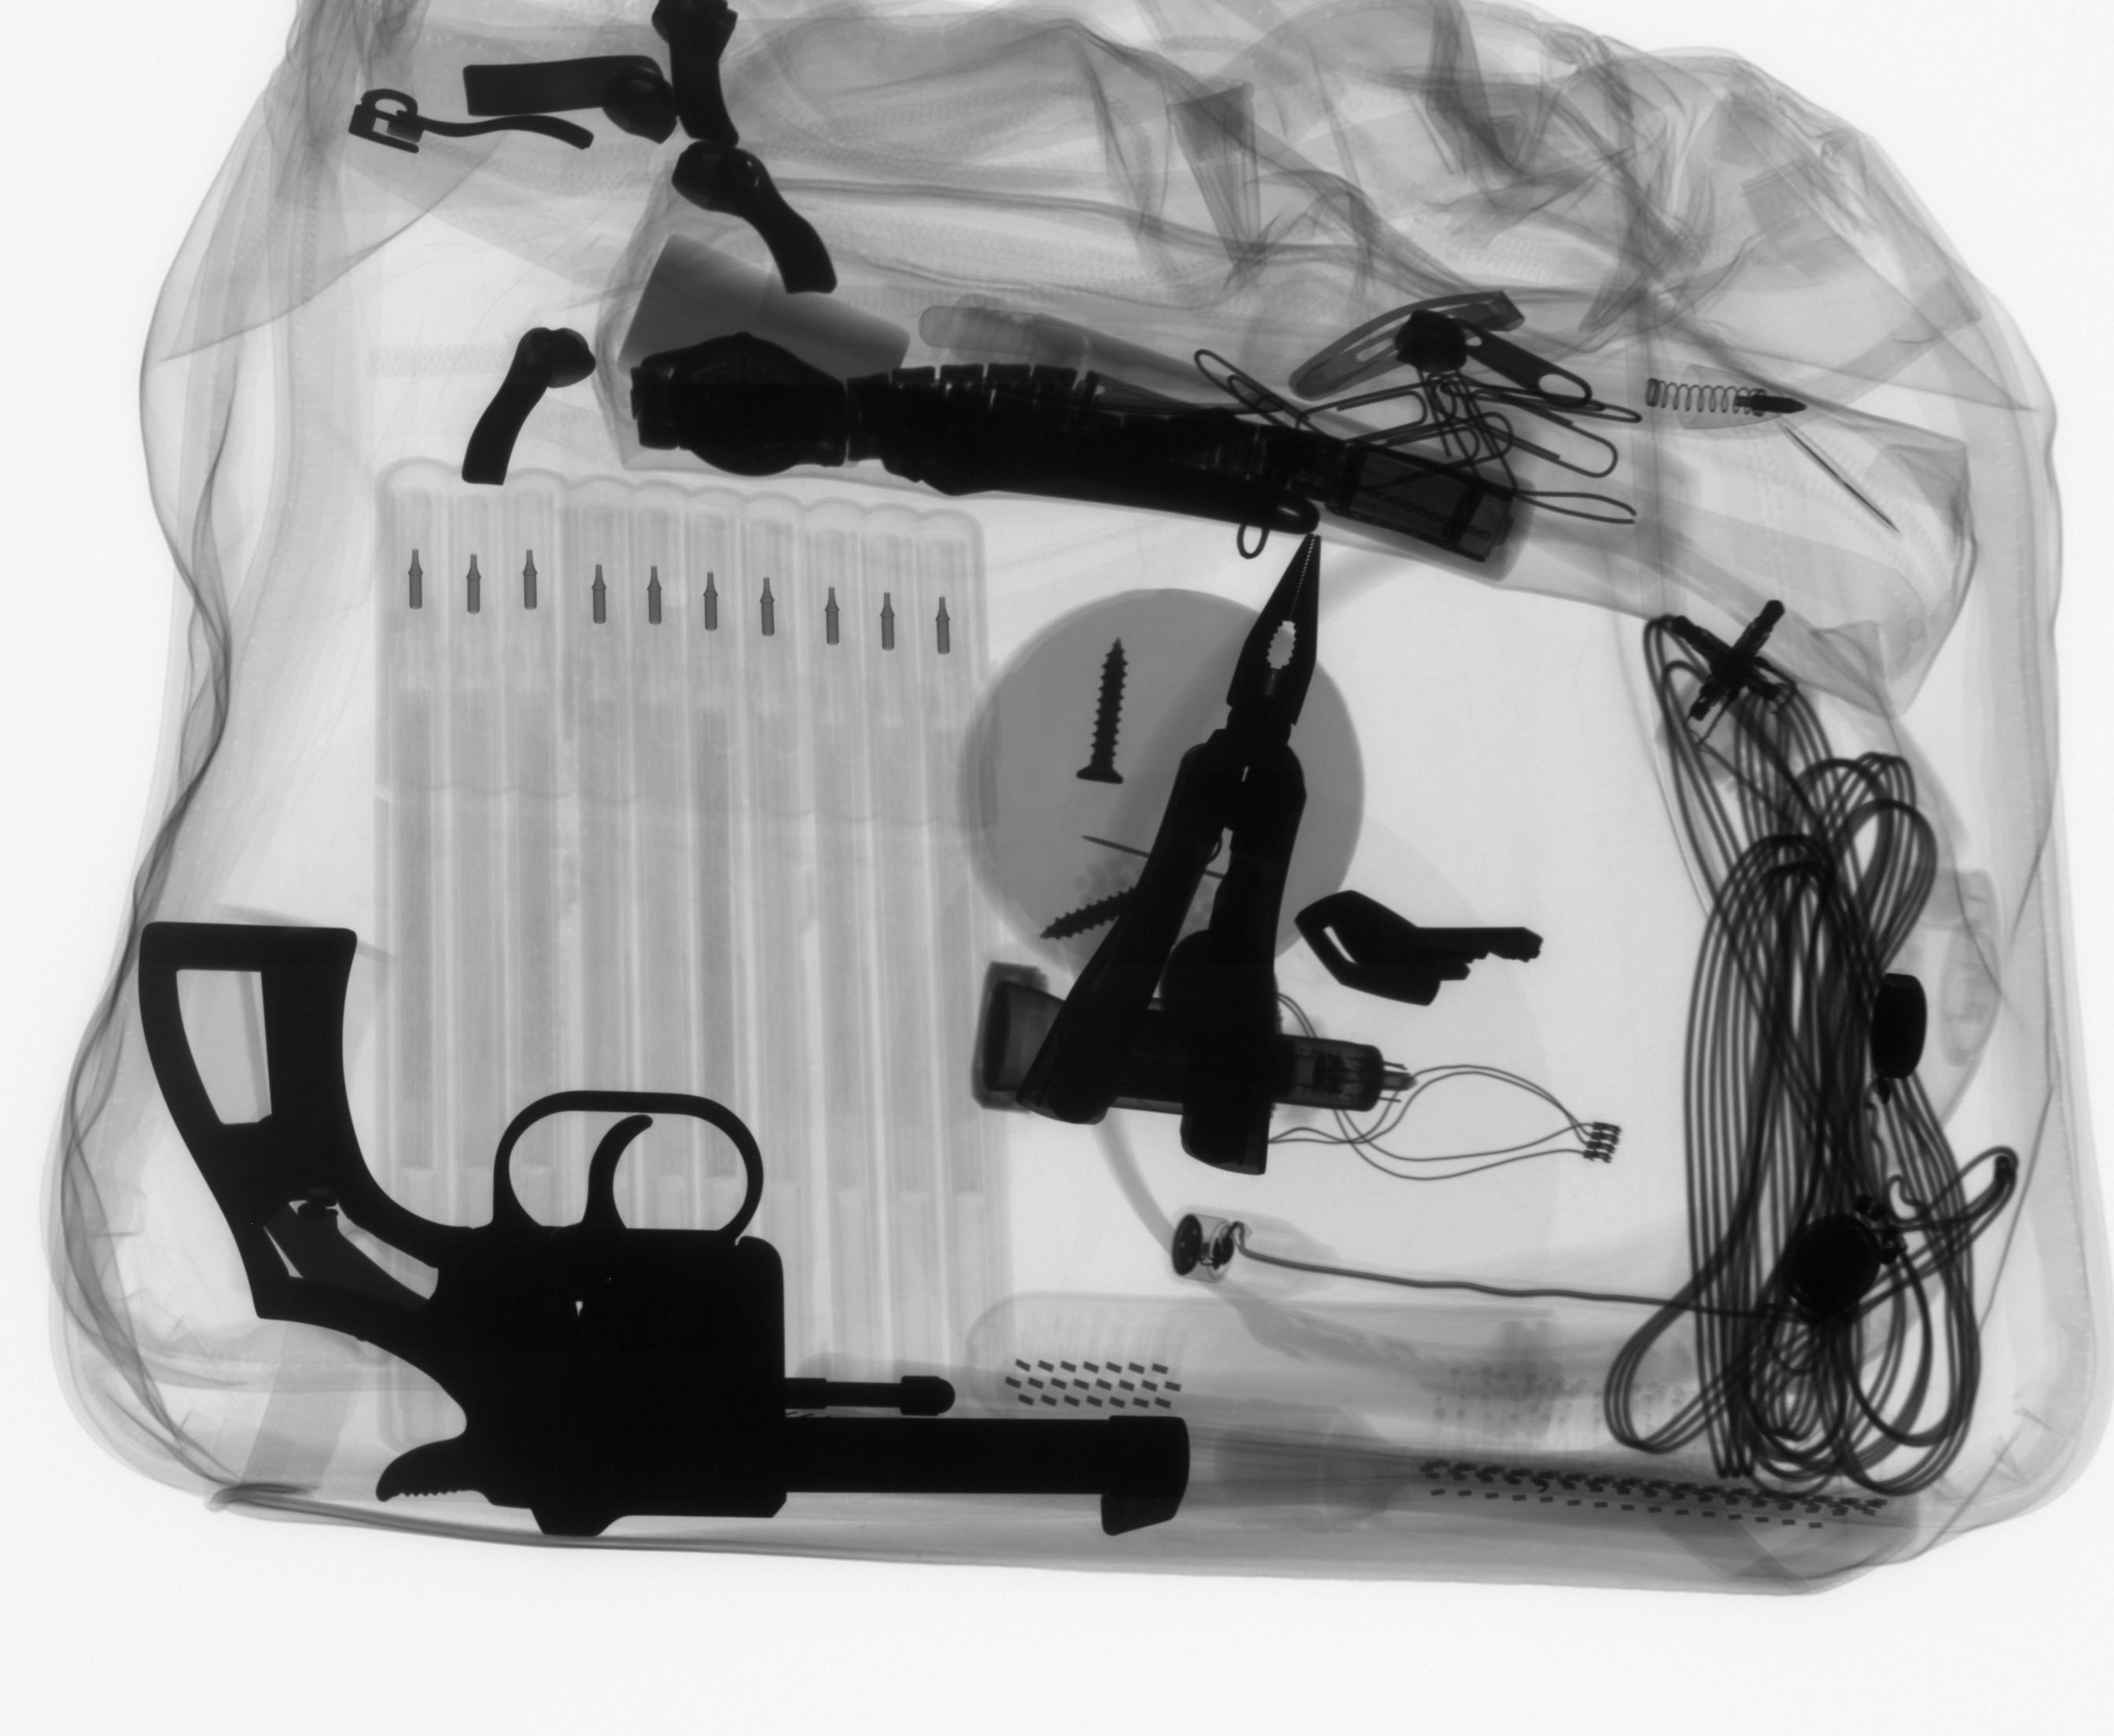Handgun: (131, 914, 1195, 1554)
